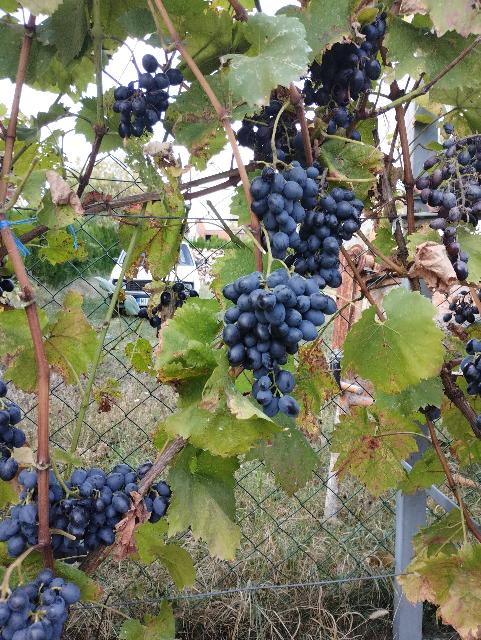grapes: (222, 269, 330, 418), (49, 462, 151, 560), (272, 188, 364, 288), (112, 55, 184, 139), (250, 162, 309, 259), (0, 470, 39, 558)
